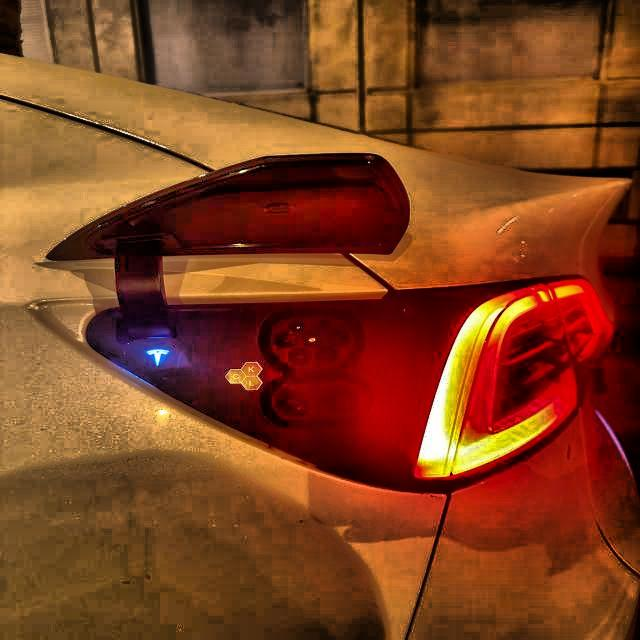inlet: (270, 316, 353, 370)
inlet-above-left: (289, 319, 307, 332)
inlet-above-right: (316, 319, 333, 331)
inlet-below-left: (288, 347, 312, 366)
inlet-below-right: (315, 346, 338, 364)
inlet-center: (299, 330, 324, 348)
inlet-center-left: (273, 331, 298, 348)
inlet-center-right: (327, 330, 349, 346)
